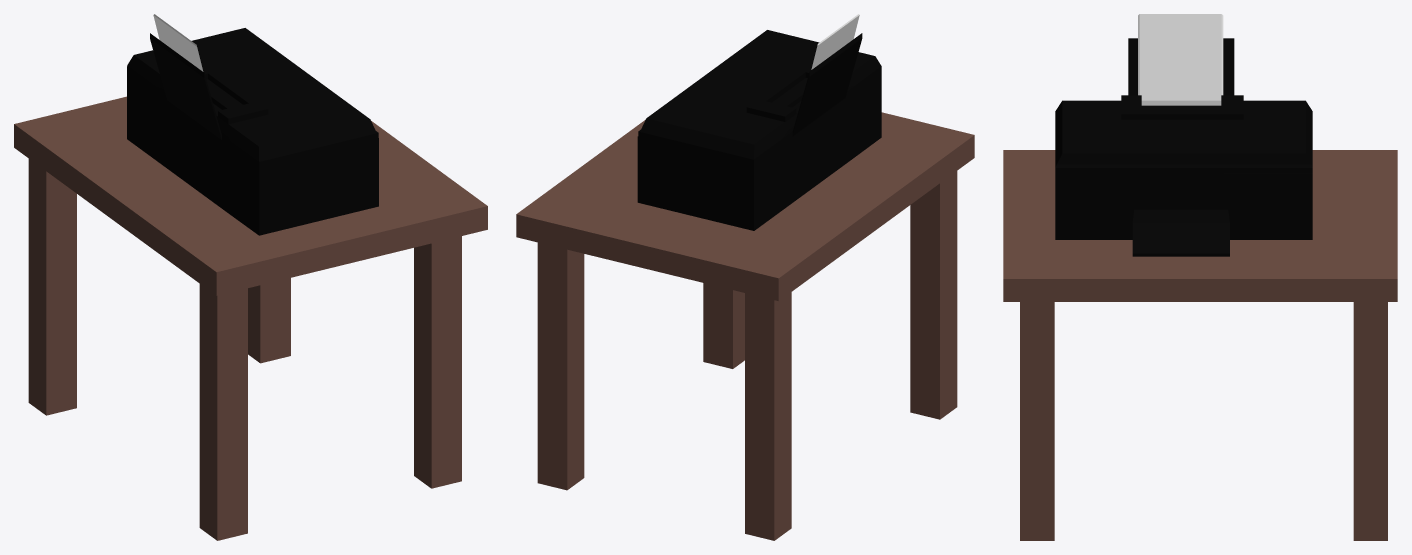
The model's file is imprimante table.fbx.
The picture shows the model from 3 angles, left to right: view 1: azimuth 30°, elevation 25°; view 2: azimuth 150°, elevation 25°; view 3: azimuth 270°, elevation 25°; orthographic projection. The views are drawn at different scales.
Parts seen in each view (by area): view 1: Cube.003; view 2: Cube.003; view 3: Cube.003.
Boxes of the visible parts, bbox=[...] form: Cube.003: bbox=[14, 14, 487, 540]; Cube.003: bbox=[516, 14, 974, 540]; Cube.003: bbox=[1003, 14, 1397, 540].
Bounding box in the file's own units: 349 × 542 × 451.
